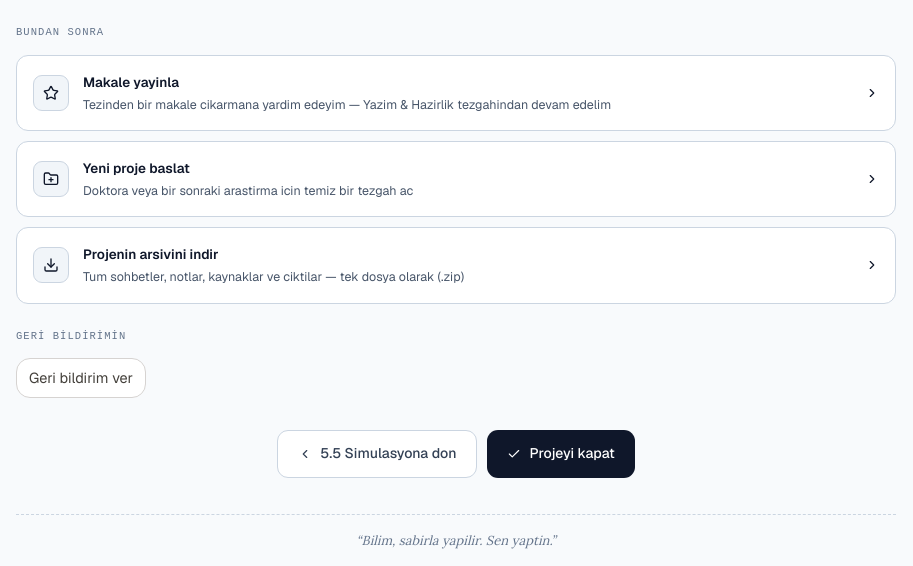
Test case: ProjectClosurePage › Geri bildirim ver → form → Gonder → POST /feedback/project-completion + tesekkur banner
The width and height of the screenshot is (913, 566).
(page scrolled)
Click the button "Geri bildirim ver". click: (81, 378)
box: [16,358,146,398]
(page scrolled)
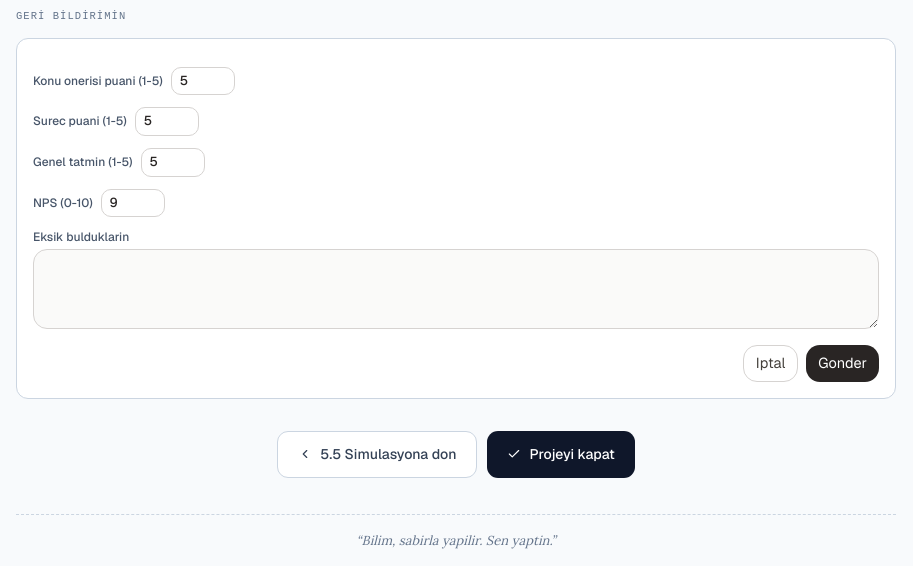
expect the text "Konu onerisi puani (1-5)" is shown: met, box [33,67,235,95]
Click the button "Gonder". click: (843, 363)
box: [806,345,879,382]
(page scrolled)
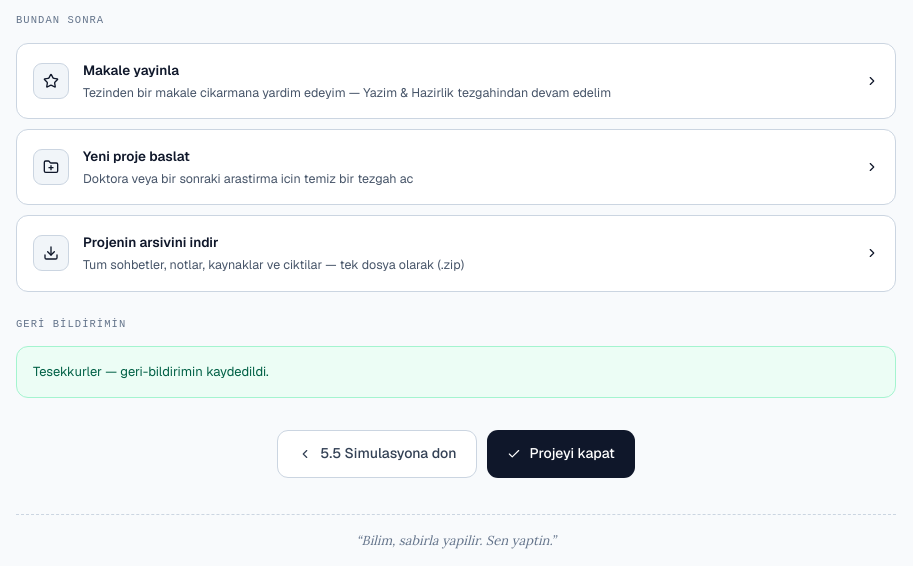
expect the text "Tesekkurler — geri-bildirimin kaydedildi." is shown: met, box [16,346,896,398]
